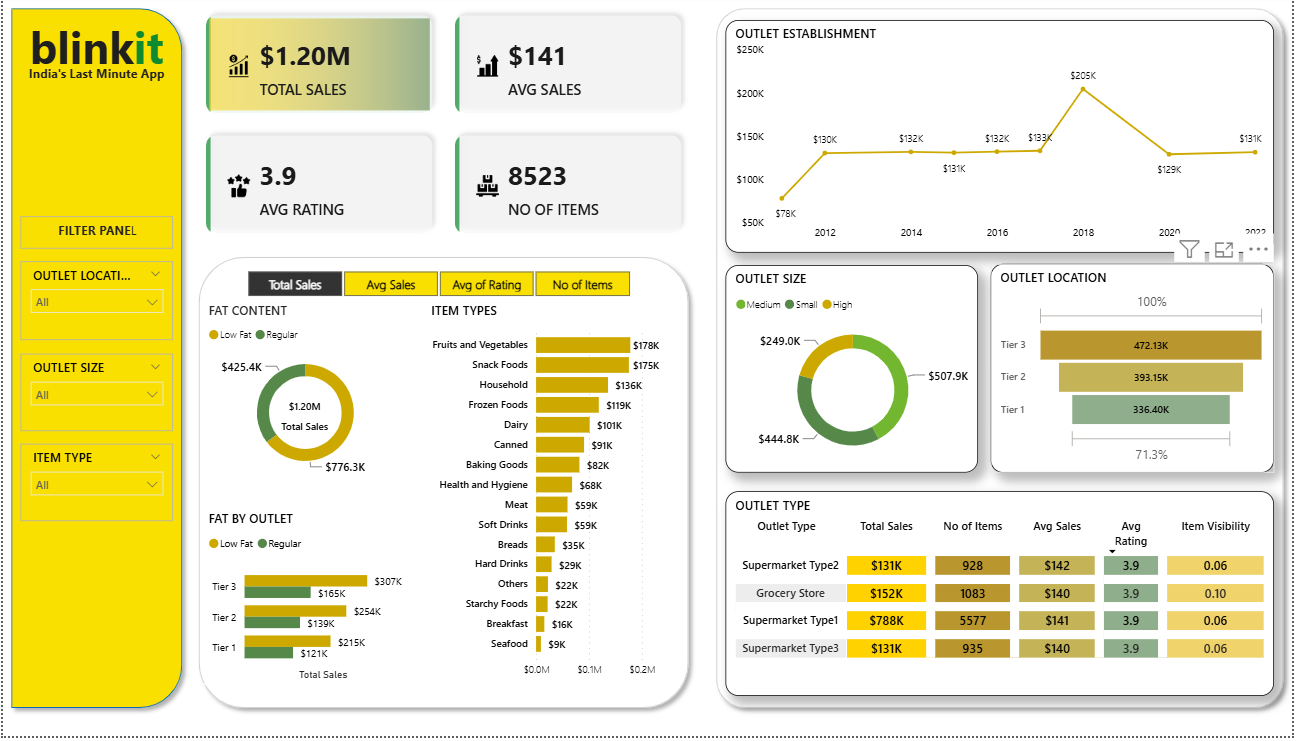

Layout of this report page (visuals, bound fields, positions):
{"tool":"powerbi","page":{"name":"Page 1","canvas":[1400,800],"ordinal":0},"visuals":[{"type":"shape","box":[0,0,203.7,778.3],"z":0},{"type":"textbox","box":[19,12.2,165.7,85.6],"z":1000},{"type":"textbox","box":[19,65.2,165.7,32.6],"z":2000},{"type":"cardVisual","fields":{"Data":["BlinkIT Grocery Data.Total Sales","BlinkIT Grocery Data.Avg Sales","BlinkIT Grocery Data.Avg of Rating","BlinkIT Grocery Data.No of Items"]},"box":[203.7,0,550.1,270.3],"z":3000},{"type":"shape","box":[203.7,270.3,550.1,508],"z":4000},{"type":"donutChart","title":"FAT CONTENT","fields":{"Y":["BlinkIT Grocery Data.Total Sales"],"Category":["BlinkIT Grocery Data.Item Fat Content"]},"box":[218.7,327.3,220,196.9],"z":5000},{"type":"slicer","fields":{"Values":["Metrics.Metrics"]},"box":[240.4,287.9,464.5,39.4],"z":6000},{"type":"card","fields":{"Values":["BlinkIT Grocery Data.Total Sales"]},"box":[290.7,426.5,74.7,50.3],"z":7000},{"type":"clusteredBarChart","title":"FAT BY OUTLET","fields":{"Y":["BlinkIT Grocery Data.Total Sales"],"Category":["BlinkIT Grocery Data.Outlet Location Type"],"Series":["BlinkIT Grocery Data.Item Fat Content"]},"box":[218.7,554.2,220,190.2],"z":8000},{"type":"shape","box":[218.7,514.8,220,39.4],"z":9000},{"type":"shape","box":[438.7,327.3,21.7,417],"z":10000},{"type":"clusteredBarChart","title":"ITEM TYPES","fields":{"Y":["BlinkIT Grocery Data.Total Sales"],"Category":["BlinkIT Grocery Data.Item Type"]},"box":[460.4,327.3,271.6,417],"z":11000},{"type":"shape","box":[753.8,12.2,12.2,766],"z":12000},{"type":"shape","box":[766,0,634.3,778.3],"z":13000},{"type":"lineChart","title":"OUTLET ESTABLISHMENT","fields":{"Category":["BlinkIT Grocery Data.Outlet Establishment Year"],"Y":["BlinkIT Grocery Data.Total Sales"]},"box":[785.1,21.7,596.3,252.6],"z":14000},{"type":"donutChart","title":"OUTLET SIZE","fields":{"Y":["BlinkIT Grocery Data.Total Sales"],"Category":["BlinkIT Grocery Data.Outlet Size"]},"box":[785.1,287.9,274.4,225.5],"z":15000},{"type":"shape","box":[1047.2,287.9,36.7,225.5],"z":16000},{"type":"funnel","title":"OUTLET LOCATION","fields":{"Category":["BlinkIT Grocery Data.Outlet Location Type"],"Y":["Sum(BlinkIT Grocery Data.Sales)"]},"box":[1073,286.6,308.3,226.8],"z":17000},{"type":"shape","box":[785.1,517.5,596.3,12.2],"z":18000},{"type":"shape","box":[785.1,274.4,596.3,12.2],"z":19000},{"type":"pivotTable","title":"OUTLET TYPE","fields":{"Values":["BlinkIT Grocery Data.Total Sales","BlinkIT Grocery Data.No of Items","BlinkIT Grocery Data.Avg Sales","BlinkIT Grocery Data.Avg of Rating","Avg(BlinkIT Grocery Data.Item Visibility)"],"Rows":["BlinkIT Grocery Data.Outlet Type"]},"box":[785.1,533.8,596.3,222.8],"z":20000},{"type":"slicer","fields":{"Values":["BlinkIT Grocery Data.Outlet Location Type"]},"box":[19,283.9,165.7,85.6],"z":21000},{"type":"slicer","title":"OUTLE`T SIZE","fields":{"Values":["BlinkIT Grocery Data.Outlet Size"]},"box":[19,384.4,165.7,84.2],"z":21001},{"type":"slicer","title":"OUTLE`T SIZE","fields":{"Values":["BlinkIT Grocery Data.Item Type"]},"box":[19,482.2,165.7,84.2],"z":21002},{"type":"textbox","box":[19,235,165.7,35.3],"z":21003}]}

Visuals, with their boxes in screenshot pixels (x1, y1, x2, y2), scaled from the page's 1400x800 canvas onto the 1296x741 screenshot:
shape: {"left": 0, "top": 0, "right": 189, "bottom": 721}
textbox: {"left": 18, "top": 11, "right": 171, "bottom": 91}
textbox: {"left": 18, "top": 60, "right": 171, "bottom": 91}
cardVisual - BlinkIT Grocery Data.Total Sales x BlinkIT Grocery Data.Avg Sales: {"left": 189, "top": 0, "right": 698, "bottom": 250}
shape: {"left": 189, "top": 250, "right": 698, "bottom": 721}
"FAT CONTENT" donutChart: {"left": 202, "top": 303, "right": 406, "bottom": 486}
slicer - Metrics.Metrics: {"left": 223, "top": 267, "right": 653, "bottom": 303}
card - BlinkIT Grocery Data.Total Sales: {"left": 269, "top": 395, "right": 338, "bottom": 442}
"FAT BY OUTLET" clusteredBarChart: {"left": 202, "top": 513, "right": 406, "bottom": 690}
shape: {"left": 202, "top": 477, "right": 406, "bottom": 513}
shape: {"left": 406, "top": 303, "right": 426, "bottom": 689}
"ITEM TYPES" clusteredBarChart: {"left": 426, "top": 303, "right": 678, "bottom": 689}
shape: {"left": 698, "top": 11, "right": 709, "bottom": 721}
shape: {"left": 709, "top": 0, "right": 1295, "bottom": 721}
"OUTLET ESTABLISHMENT" lineChart: {"left": 727, "top": 20, "right": 1279, "bottom": 254}
"OUTLET SIZE" donutChart: {"left": 727, "top": 267, "right": 981, "bottom": 476}
shape: {"left": 969, "top": 267, "right": 1003, "bottom": 476}
"OUTLET LOCATION" funnel: {"left": 993, "top": 265, "right": 1279, "bottom": 476}
shape: {"left": 727, "top": 479, "right": 1279, "bottom": 491}
shape: {"left": 727, "top": 254, "right": 1279, "bottom": 265}
"OUTLET TYPE" pivotTable: {"left": 727, "top": 494, "right": 1279, "bottom": 701}
slicer - BlinkIT Grocery Data.Outlet Location Type: {"left": 18, "top": 263, "right": 171, "bottom": 342}
"OUTLE`T SIZE" slicer: {"left": 18, "top": 356, "right": 171, "bottom": 434}
"OUTLE`T SIZE" slicer: {"left": 18, "top": 447, "right": 171, "bottom": 525}
textbox: {"left": 18, "top": 218, "right": 171, "bottom": 250}
